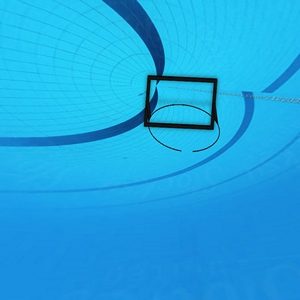circle: (143, 73, 223, 156)
